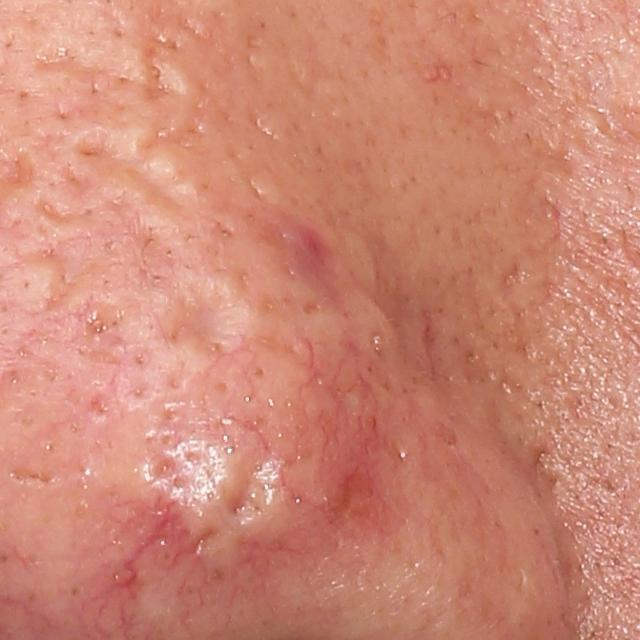atrophic_scar: (76, 130, 196, 209), (220, 457, 280, 521), (181, 289, 243, 349), (139, 51, 190, 103), (128, 226, 183, 273), (37, 49, 108, 85), (5, 139, 38, 189), (60, 165, 100, 193), (37, 198, 74, 226)
